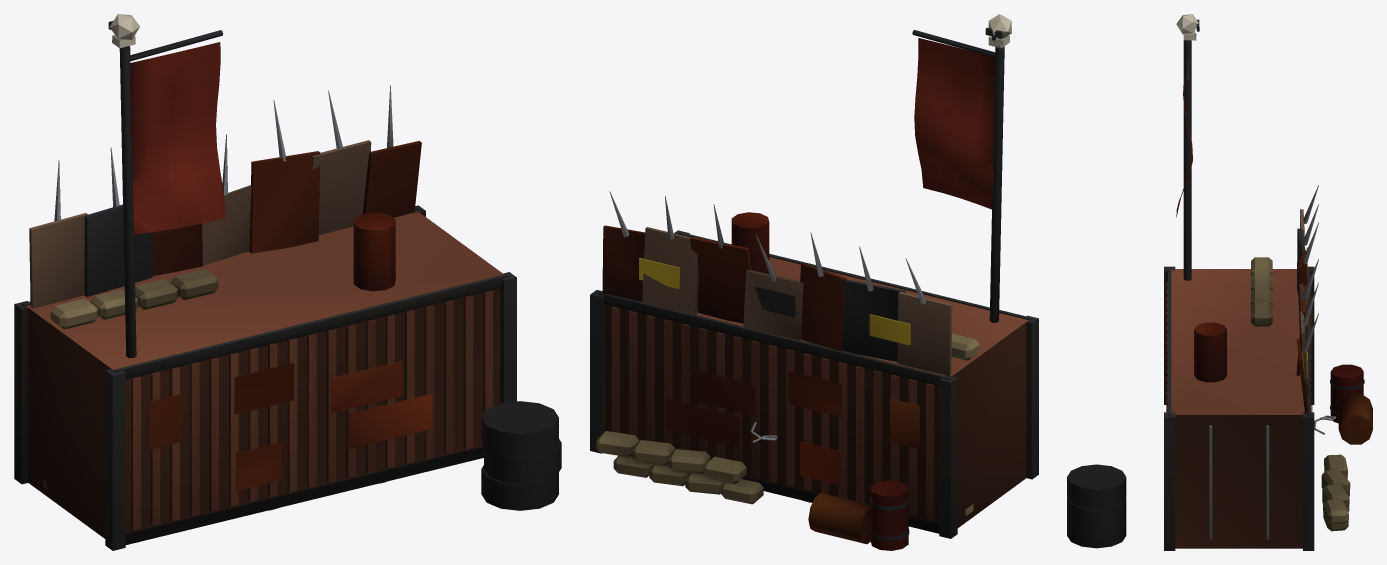
Rendered from rb_container.glb.
3 views of the same model, side by side, from view 1: azimuth 30°, elevation 25°; view 2: azimuth 150°, elevation 25°; view 3: azimuth 270°, elevation 25° (orthographic). The views are drawn at different scales.
Visible parts, largest first — view 1: paint, rust, metal_dark, canvas, paint2, rubber, spike, bone; view 2: paint, rust, metal_dark, canvas, paint2, hazard, spike, bone; view 3: paint, metal_dark, rust, rubber, canvas, spike, metal_bare, paint2, bone.
Part boxes in pixels (left/top/right/bottom): paint: left=26, top=211, right=503, bottom=538; rust: left=147, top=141, right=432, bottom=490; metal_dark: left=14, top=21, right=516, bottom=550; canvas: left=43, top=42, right=225, bottom=489; paint2: left=29, top=140, right=371, bottom=308; rubber: left=481, top=401, right=561, bottom=510; spike: left=54, top=85, right=393, bottom=221; bone: left=109, top=14, right=139, bottom=48; paint: left=605, top=257, right=1028, bottom=527; rust: left=602, top=212, right=919, bottom=550; metal_dark: left=590, top=27, right=1038, bottom=540; canvas: left=596, top=38, right=995, bottom=515; paint2: left=642, top=227, right=952, bottom=375; hazard: left=639, top=258, right=910, bottom=345; spike: left=609, top=191, right=925, bottom=442; bone: left=988, top=14, right=1011, bottom=48; paint: left=1166, top=269, right=1311, bottom=548; metal_dark: left=1164, top=19, right=1364, bottom=550; rust: left=1166, top=250, right=1372, bottom=444; rubber: left=1067, top=464, right=1126, bottom=548; canvas: left=1176, top=60, right=1350, bottom=531; spike: left=1302, top=185, right=1336, bottom=434; metal_bare: left=1209, top=425, right=1269, bottom=539; paint2: left=1299, top=209, right=1310, bottom=396; bone: left=1176, top=14, right=1198, bottom=40.
Size of what is drawn, in the model's own units: 6.26 by 7.66 by 5.37.
